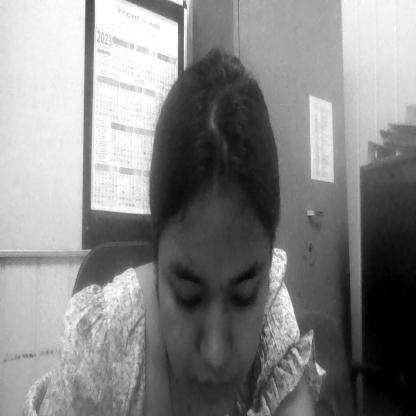Normal: (163, 173, 263, 408)
